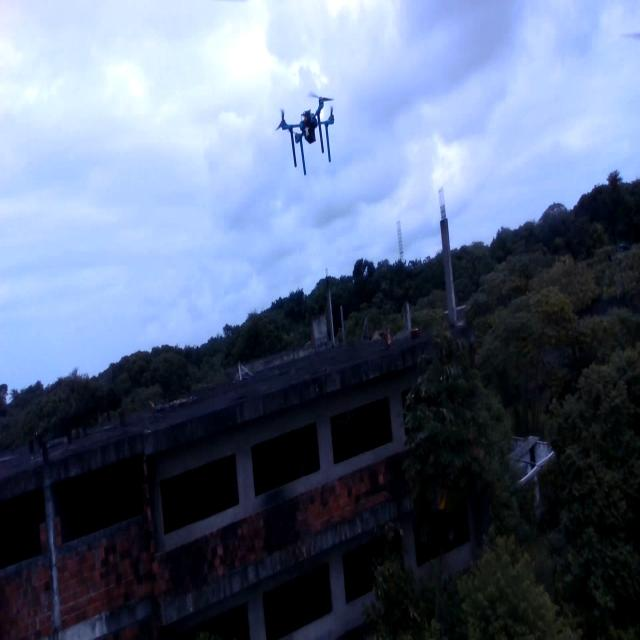-uav-: (271, 83, 358, 178)
